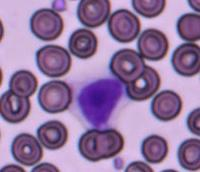L: (68, 72, 130, 130)
